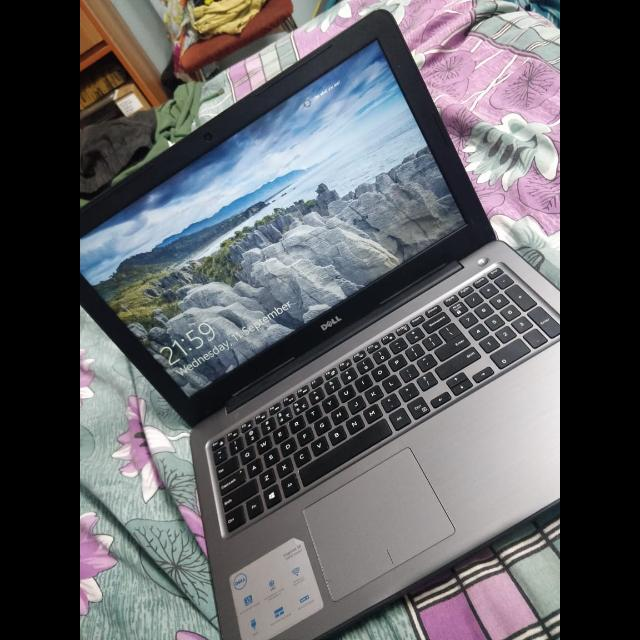Laptop: (80, 4, 560, 640)
